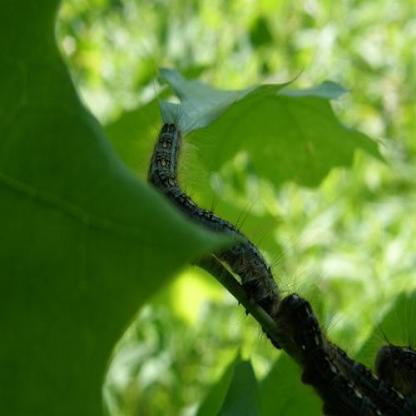armyworm: (149, 121, 281, 314), (278, 288, 416, 415)
